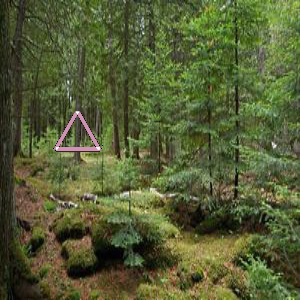triangle: (50, 107, 104, 155)
